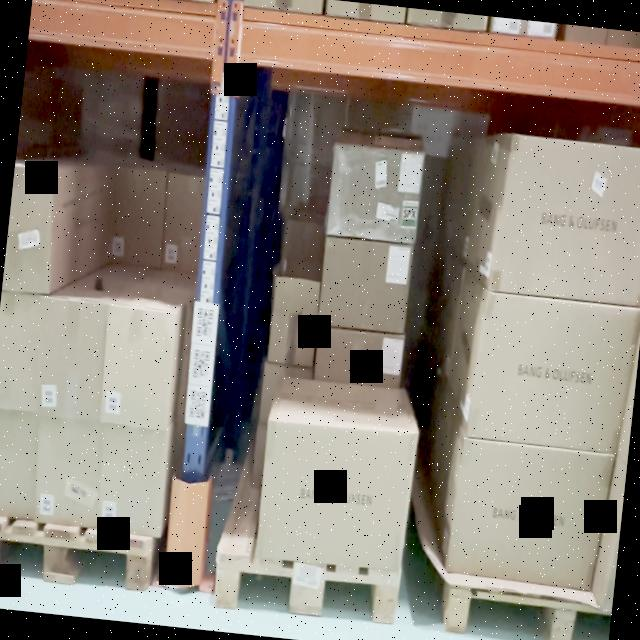box: (470, 294, 633, 452), (451, 442, 608, 594), (255, 422, 414, 572), (328, 144, 424, 244), (102, 298, 176, 426), (42, 292, 106, 428), (321, 238, 413, 328), (98, 427, 168, 540), (35, 420, 100, 517)
